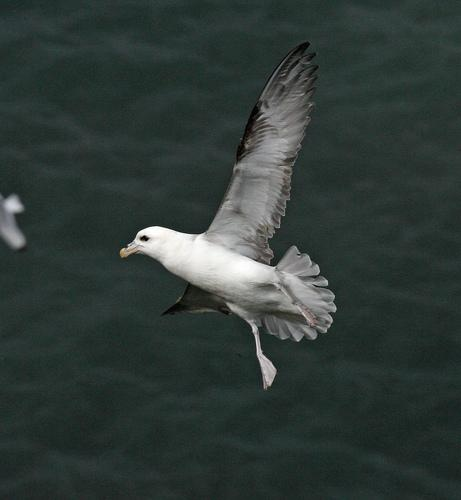bird: (111, 41, 331, 391)
